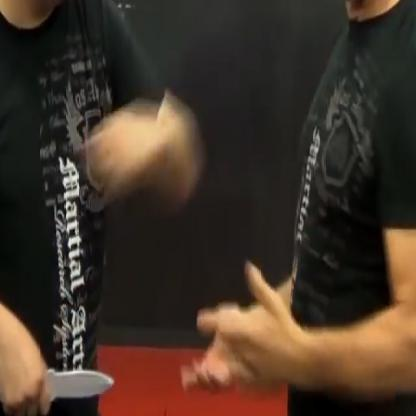knife: (0, 354, 120, 414)
